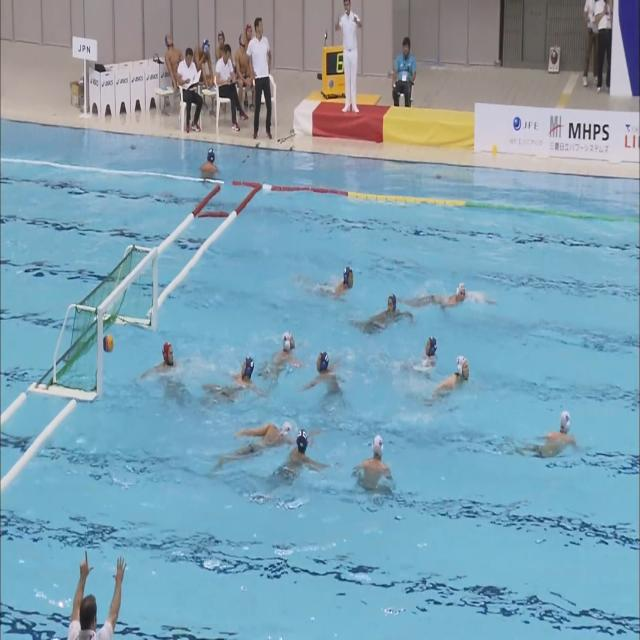ball: (103, 334, 114, 352)
